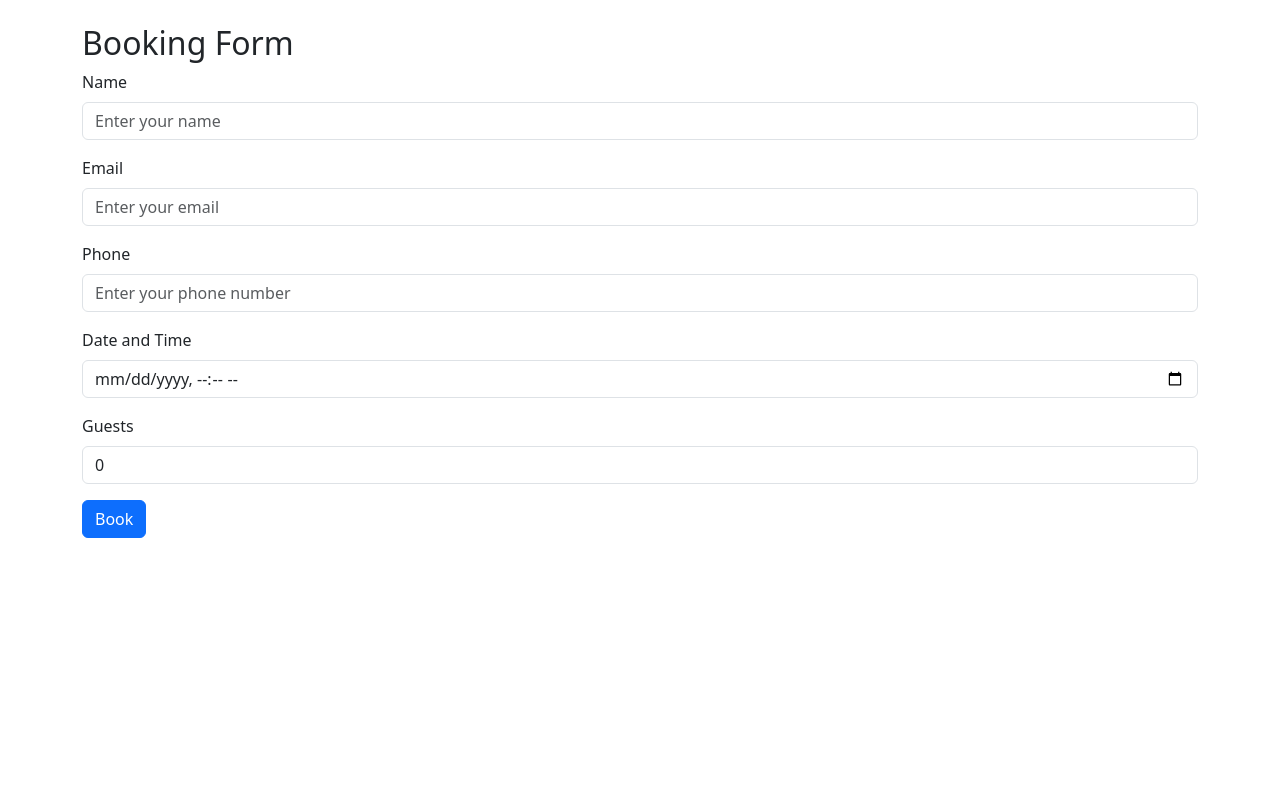
it: BookTable Component › displays error when input datetime is out of opening hours
Type "2024-12-01T08:00" into the field labelled "Date and Time". click: (640, 379)
box: 82,360 -> 1198,398
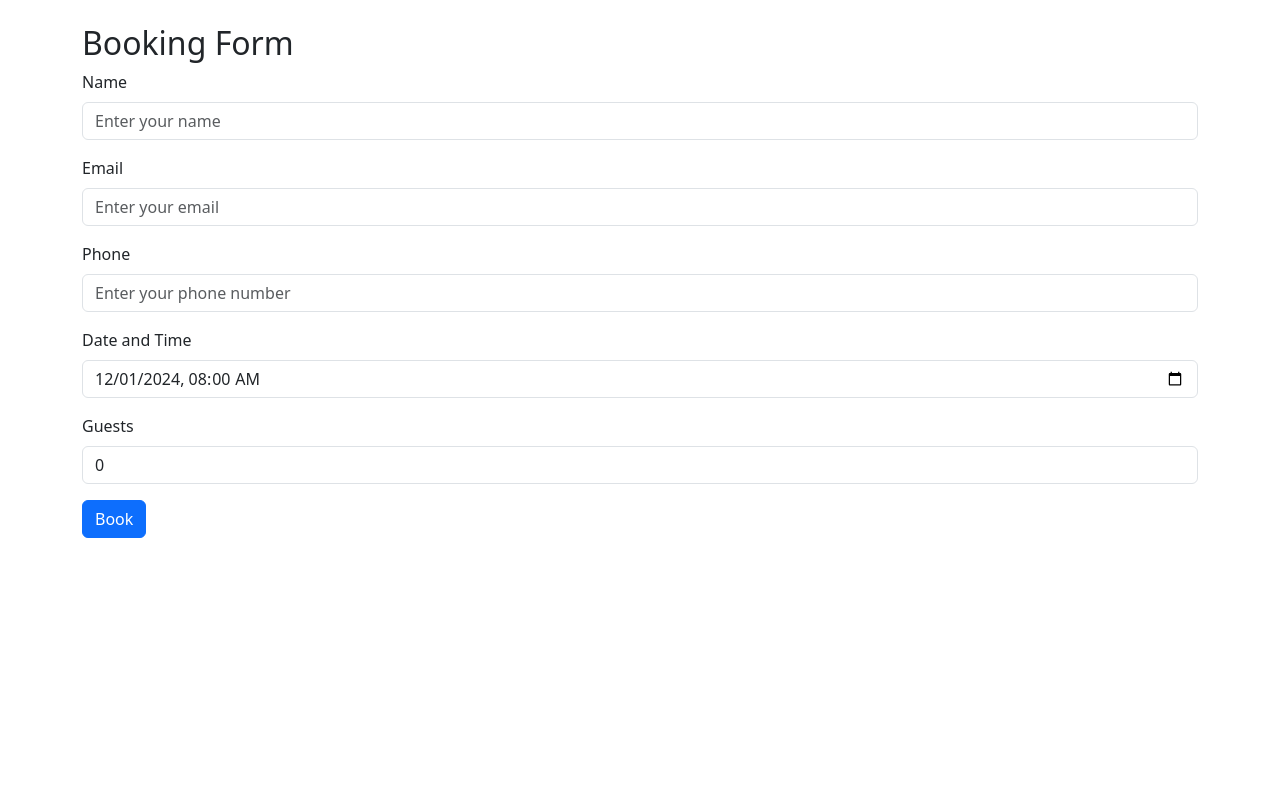
Click the button "Book". click: (114, 519)
box: 82,500 -> 146,538
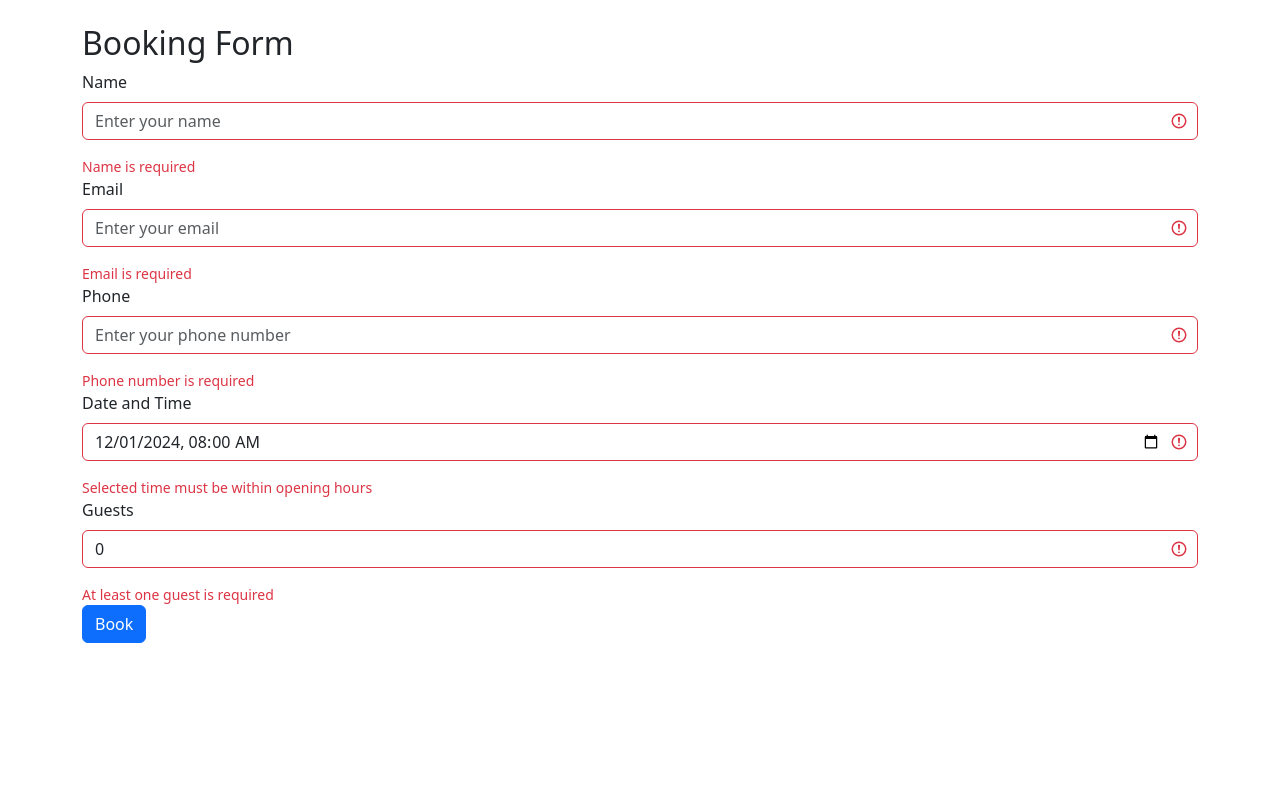
Result: the text "Selected time must be within opening hours" is shown at 82,478 -> 372,497
